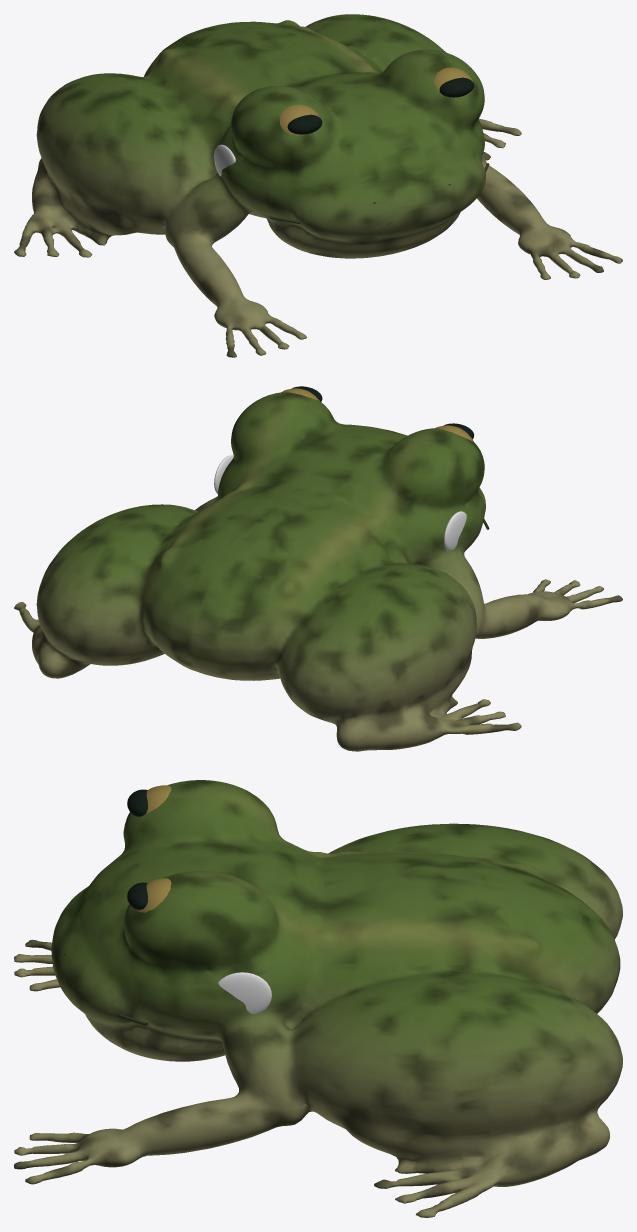
Rendered from frog.glb.
3 views of the same model, one above another, from view 1: azimuth 30°, elevation 25°; view 2: azimuth 150°, elevation 25°; view 3: azimuth 270°, elevation 25° (orthographic). The views are drawn at different scales.
Visible parts, largest first — view 1: SW_Frog_Skin, SW_Frog_Pupil, SW_Frog_Pupil.001, SW_Frog_Iris; view 2: SW_Frog_Skin, SW_Frog_Tympanum; view 3: SW_Frog_Skin, SW_Frog_Tympanum.001, SW_Frog_Iris.001.
Part boxes in pixels (x1,y1,x2,y2): SW_Frog_Skin: [14, 14, 622, 357]; SW_Frog_Pupil: [287, 114, 322, 134]; SW_Frog_Pupil.001: [439, 77, 474, 97]; SW_Frog_Iris: [279, 104, 319, 135]; SW_Frog_Skin: [14, 392, 622, 751]; SW_Frog_Tympanum: [444, 511, 466, 551]; SW_Frog_Skin: [14, 780, 622, 1217]; SW_Frog_Tympanum.001: [218, 972, 271, 1014]; SW_Frog_Iris.001: [133, 878, 171, 912].
Size of the model in its own units: 0.9813 by 0.3544 by 0.8195.
